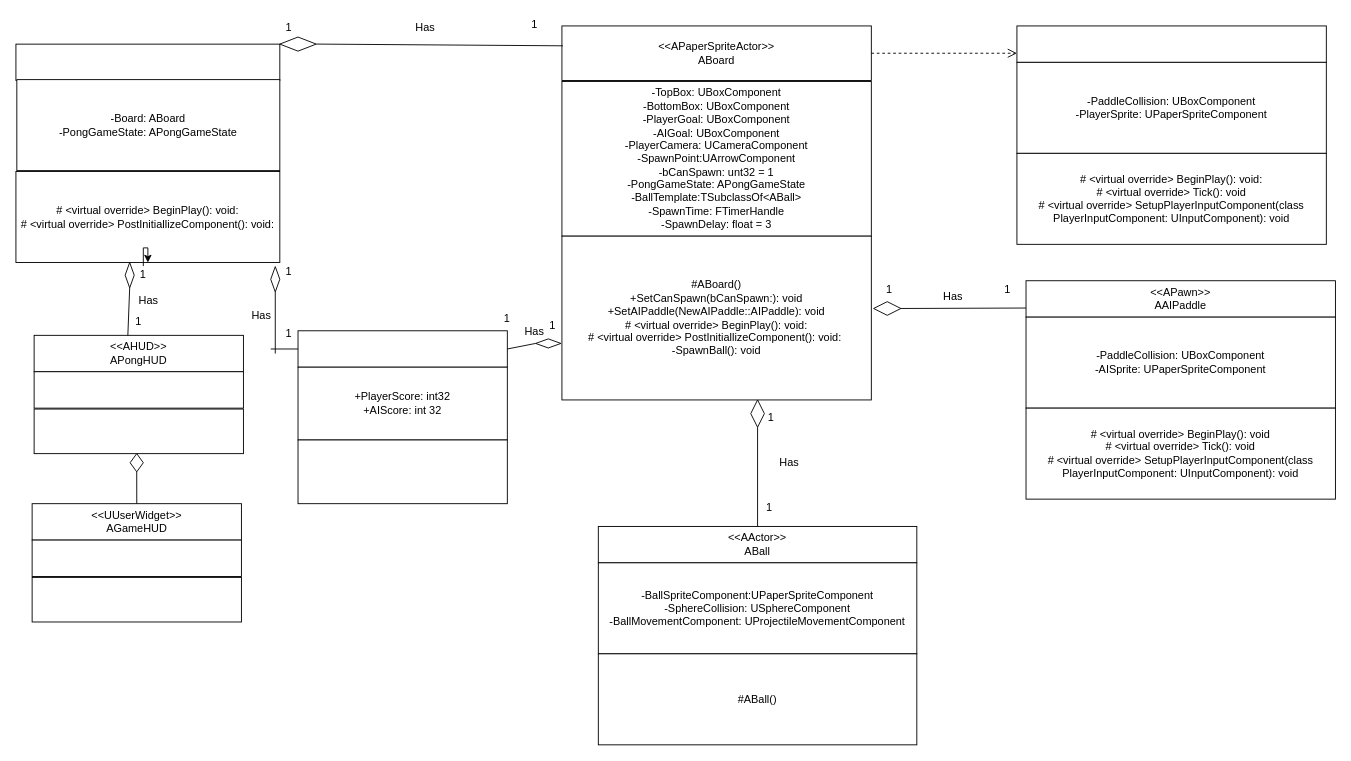
This 1351x761 diagram has some shape labels left out. The centre of each missing label's shape, as x and y in pixels:
"<<AGameModeBase>> APongGameMode" belongs at [147,62].
"<<AGameStateBase>> APongGameState" belongs at [402,348].
"<<APawn>> APlayerPaddle" belongs at [1171,43].
